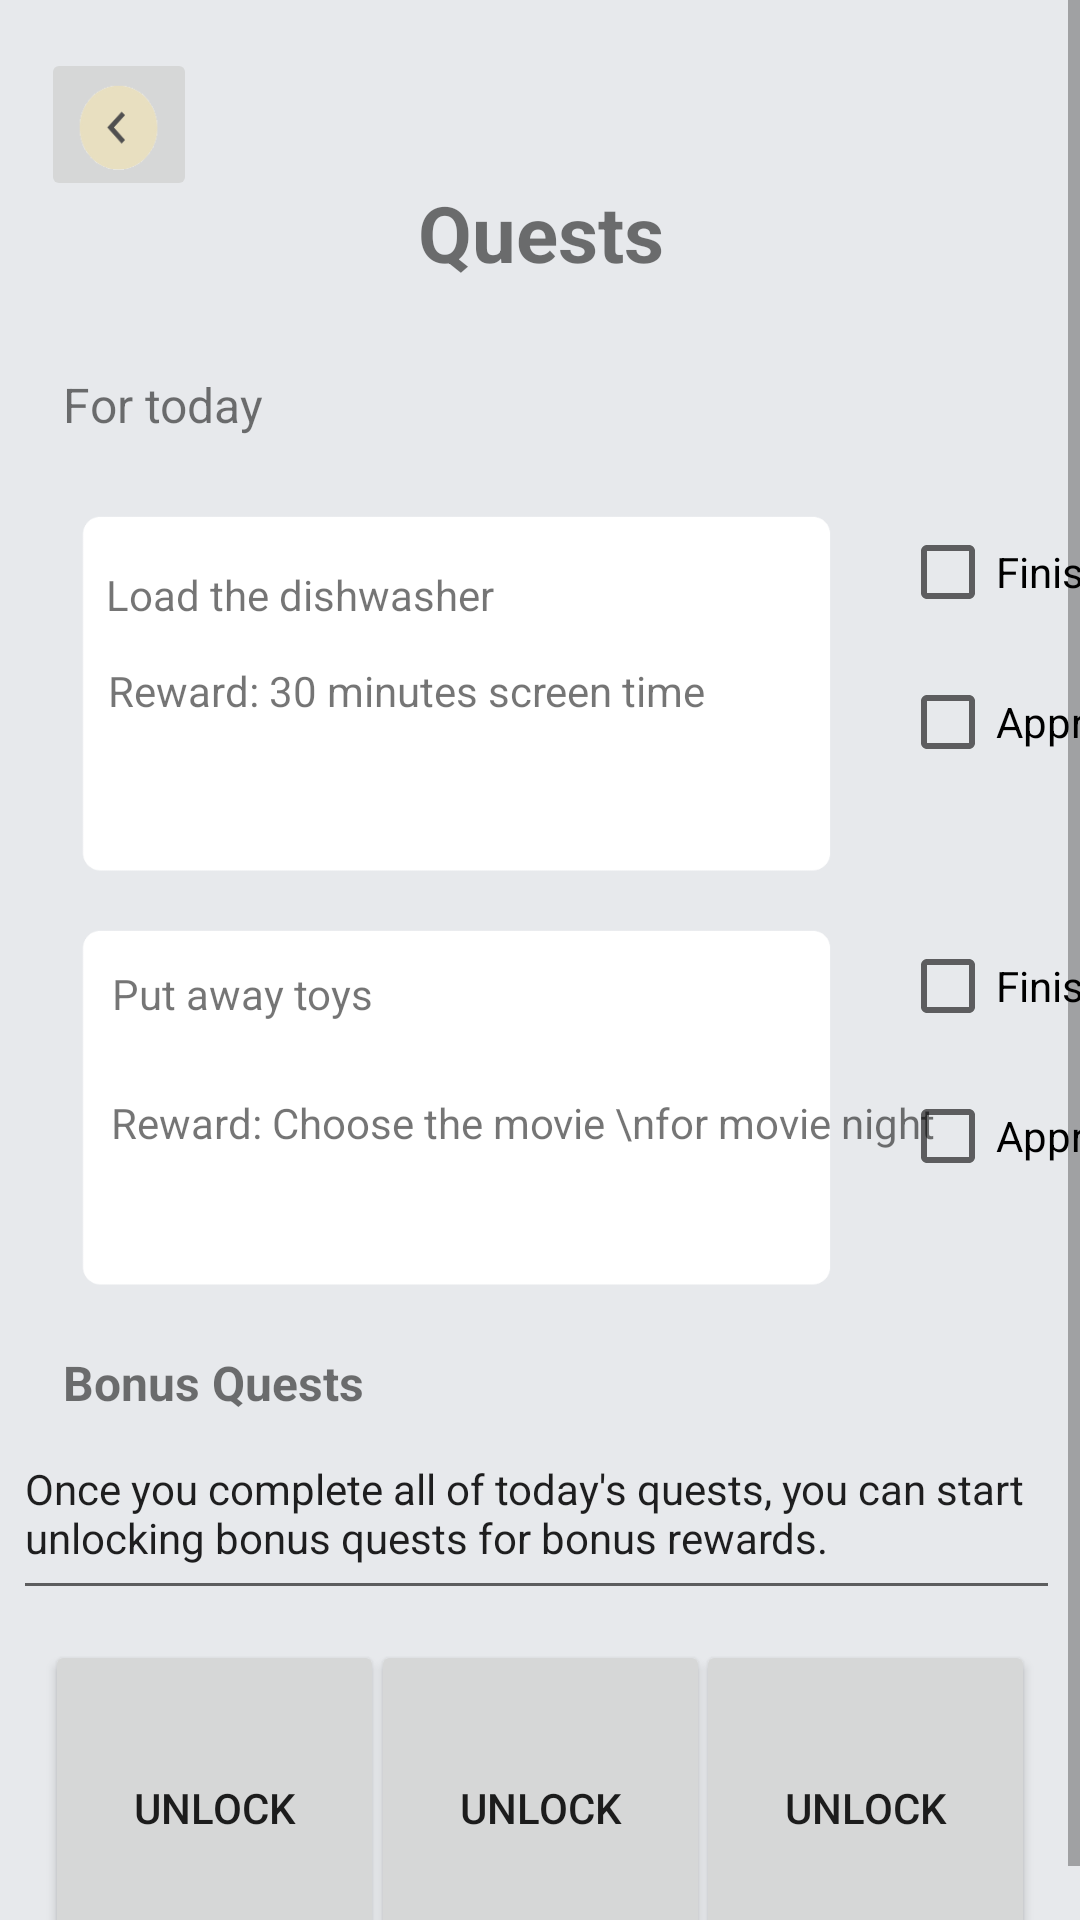

Screen size 1080×1920. Icon name, then its center in pixels as point (x, y):
back: point (118, 127)
